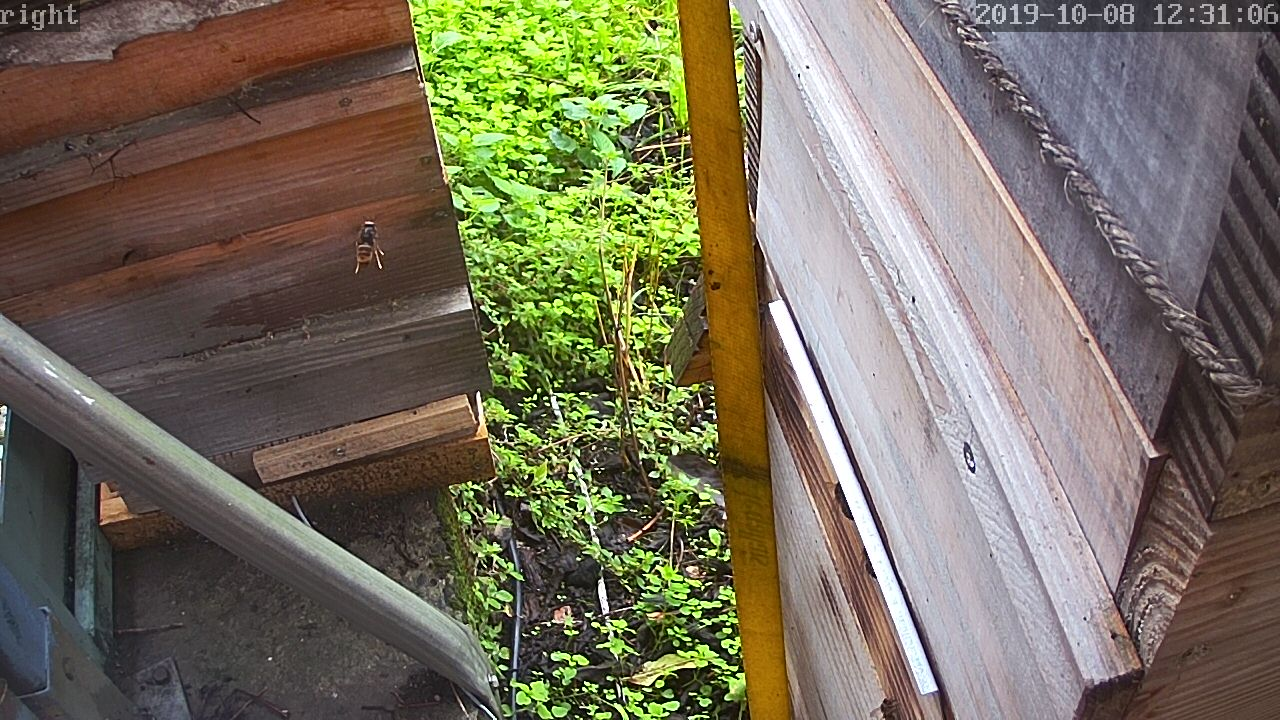bee: (826, 481, 857, 517), (853, 540, 881, 573)
hornet: (346, 216, 388, 272)
